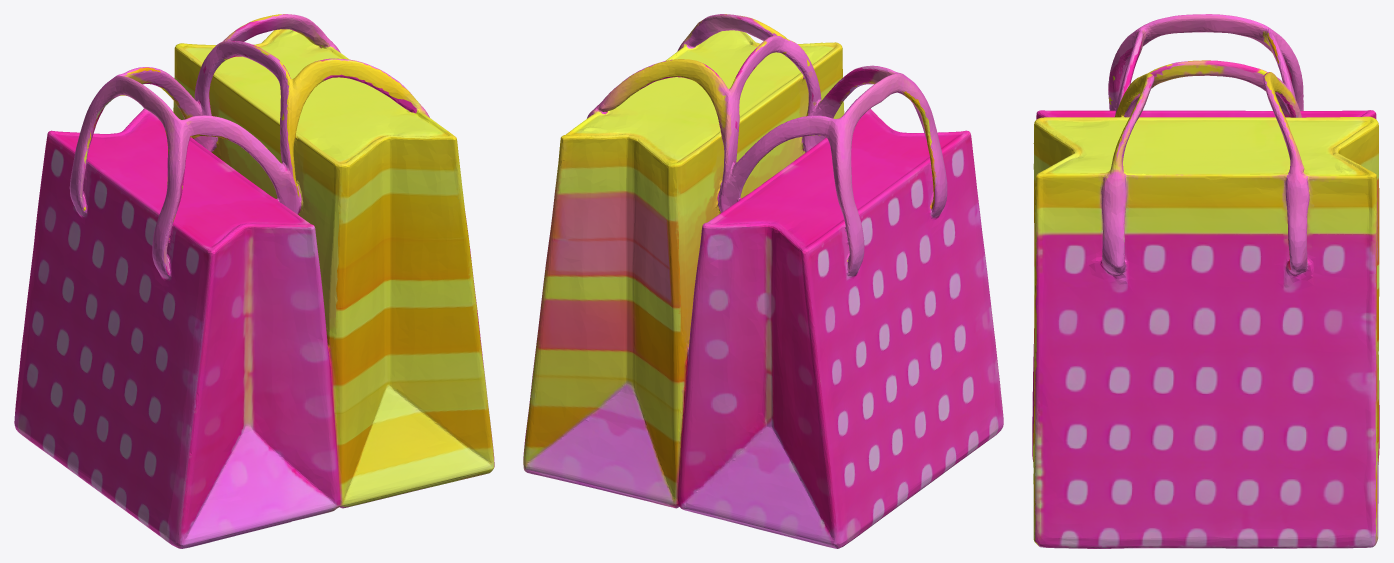
The picture shows the model from 3 angles, left to right: view 1: azimuth 30°, elevation 25°; view 2: azimuth 150°, elevation 25°; view 3: azimuth 270°, elevation 25°; orthographic projection. The views are drawn at different scales.
Visible parts, largest first — view 1: temp_mesh.ply; view 2: temp_mesh.ply; view 3: temp_mesh.ply.
Boxes of the visible parts, bbox=[...] form: temp_mesh.ply: bbox=[14, 14, 494, 548]; temp_mesh.ply: bbox=[523, 14, 1003, 548]; temp_mesh.ply: bbox=[1032, 14, 1379, 548].
Size of the model in its own units: 1.64 by 1.97 by 1.51.
1 material, 1 textured.
